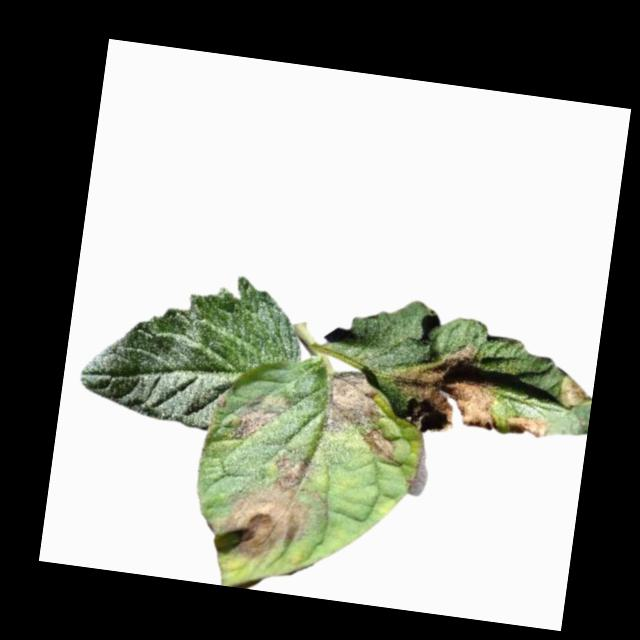Late_blight: (201, 446, 333, 568), (383, 334, 504, 441), (319, 367, 387, 443), (227, 385, 295, 448), (556, 372, 595, 414), (503, 411, 552, 443), (362, 427, 400, 462)
